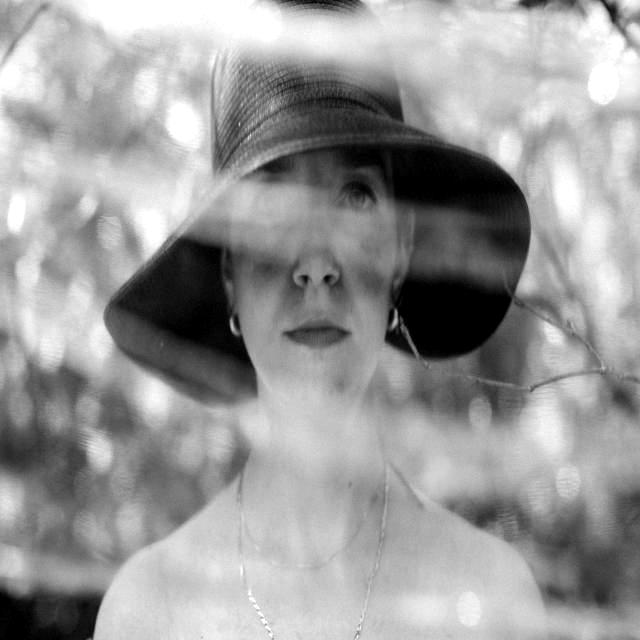no_hard_hat: (104, 0, 530, 402)
person: (95, 12, 545, 640)
